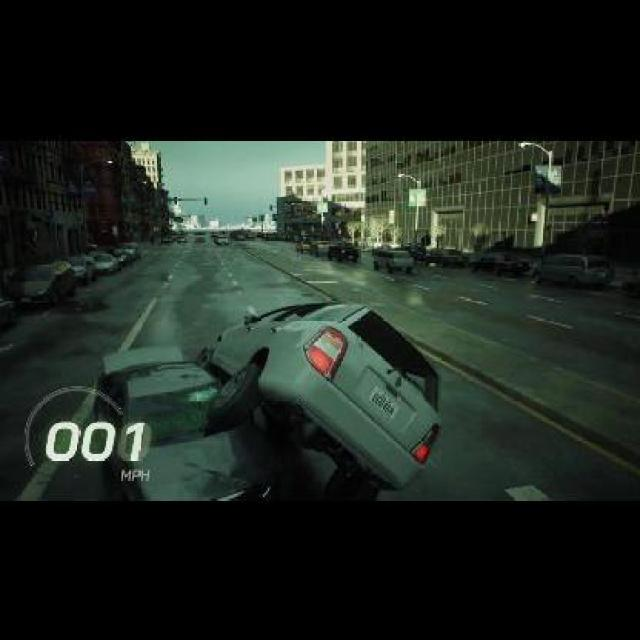accident: (88, 296, 444, 498)
